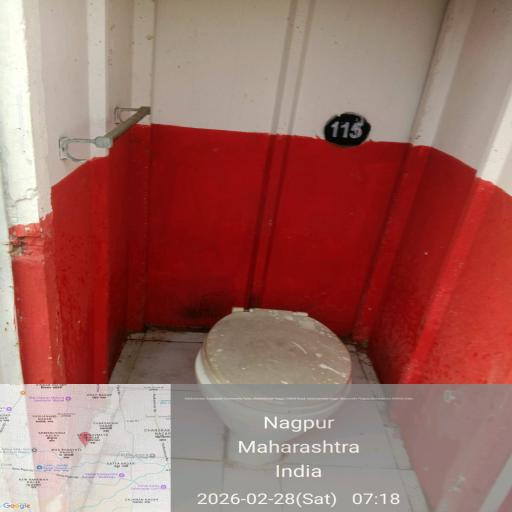clean_floor: (17, 33, 512, 343)
partial_dirty_western: (146, 288, 374, 512)
